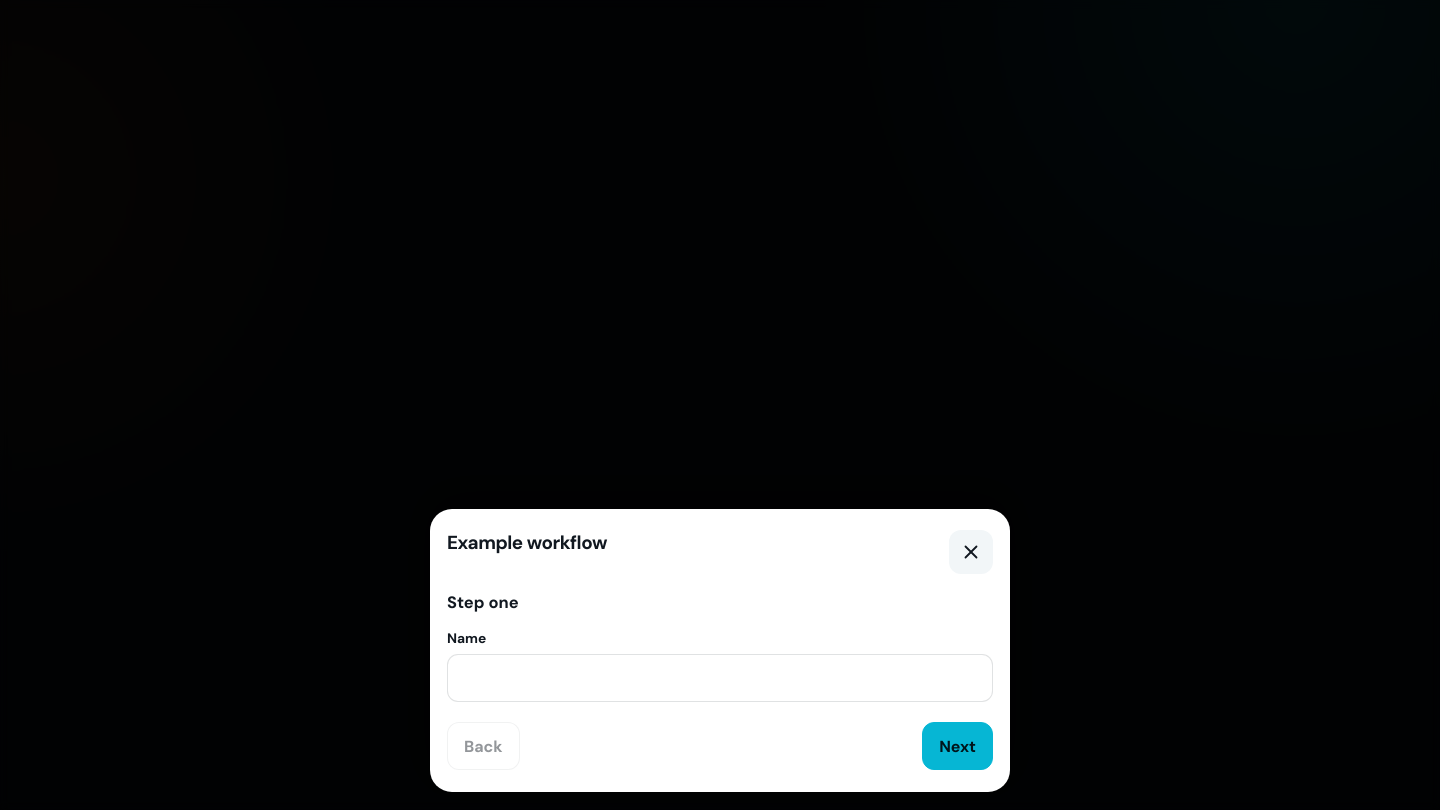
it: WorkflowWizard › blocks moving to the next step when a required field is empty
Click the button "Next": (958, 746) [922,722,993,770]
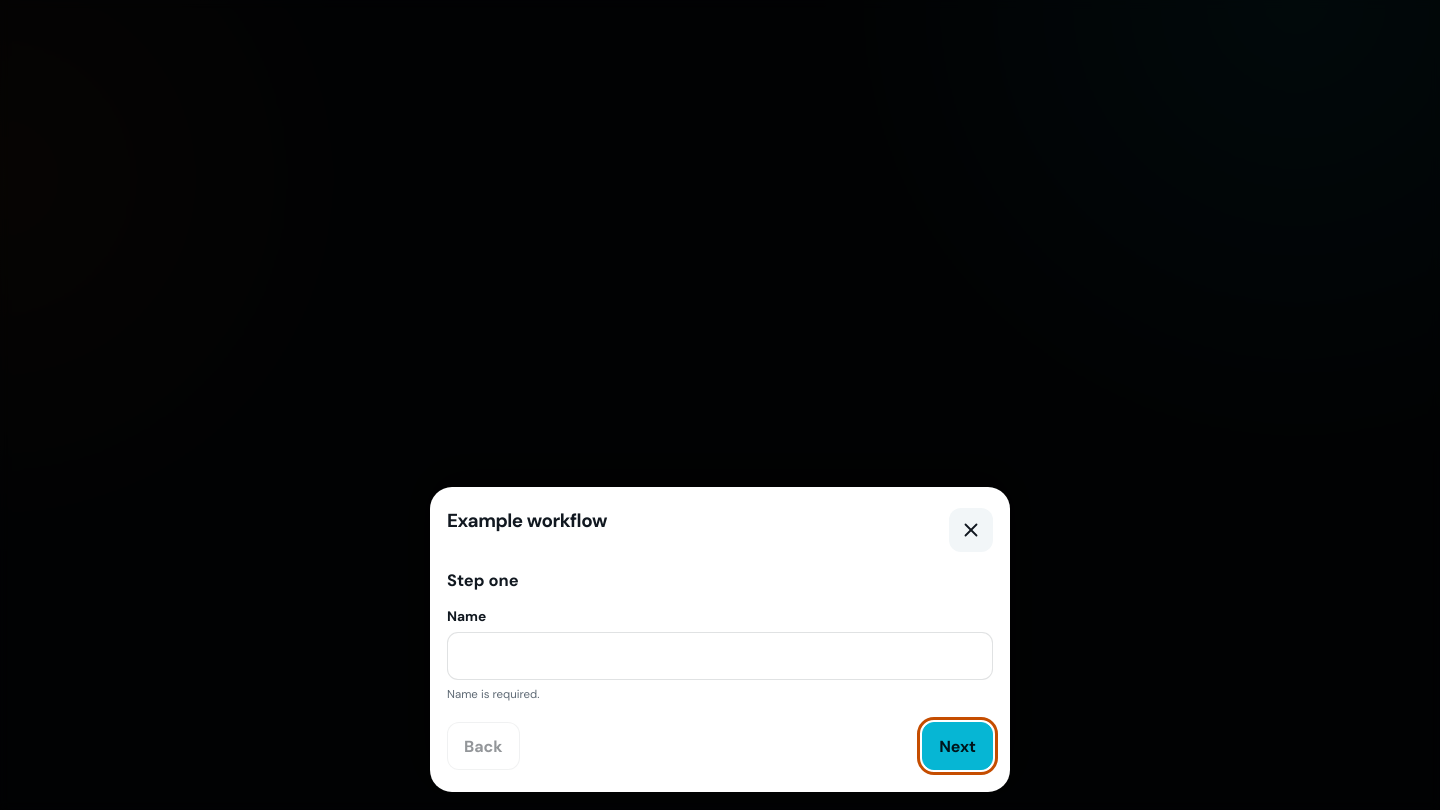
Expected: the heading "Step one" is shown, [447,570,519,591]
Now the text "Name is required." is shown, box [447,687,540,702]
